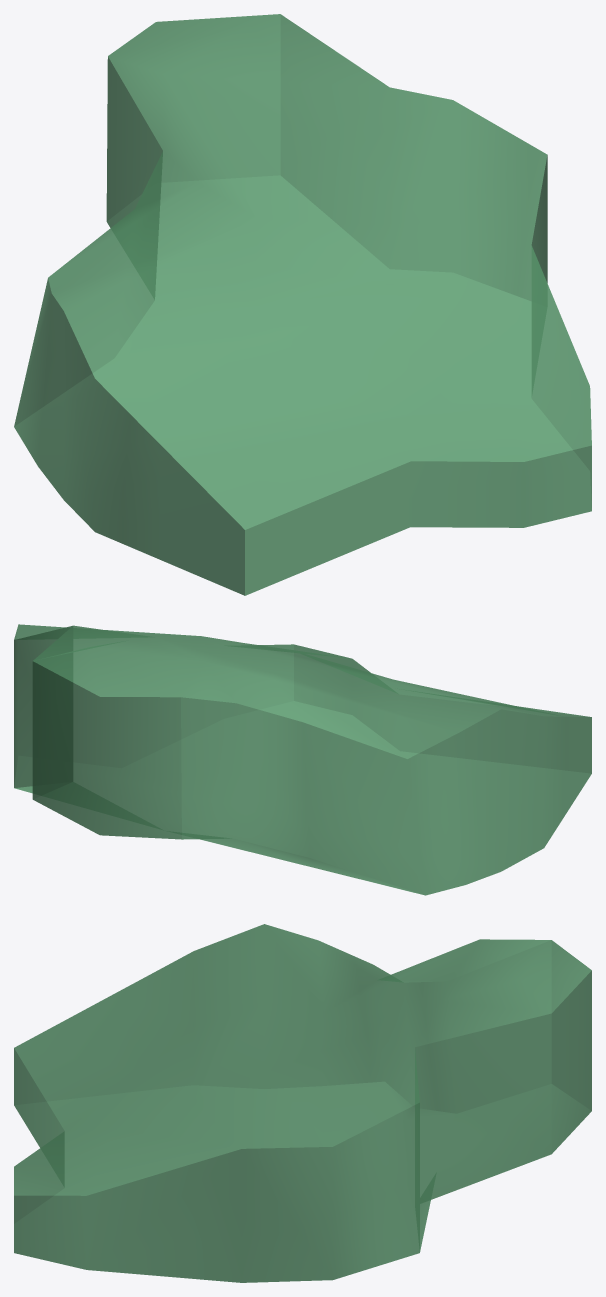
Rendered from Scree_01_Collider.fbx.
3 views of the same model, one above another, from view 1: azimuth 30°, elevation 25°; view 2: azimuth 150°, elevation 25°; view 3: azimuth 270°, elevation 25° (orthographic). The views are drawn at different scales.
Visible parts, largest first — view 1: Scree_01_Collider; view 2: Scree_01_Collider; view 3: Scree_01_Collider.
Part boxes in pixels (<box>): Scree_01_Collider: <box>14,14,591,595</box>; Scree_01_Collider: <box>14,624,591,895</box>; Scree_01_Collider: <box>14,924,591,1282</box>.
Bounding box in the file's own units: 2109 × 1089 × 2271.
